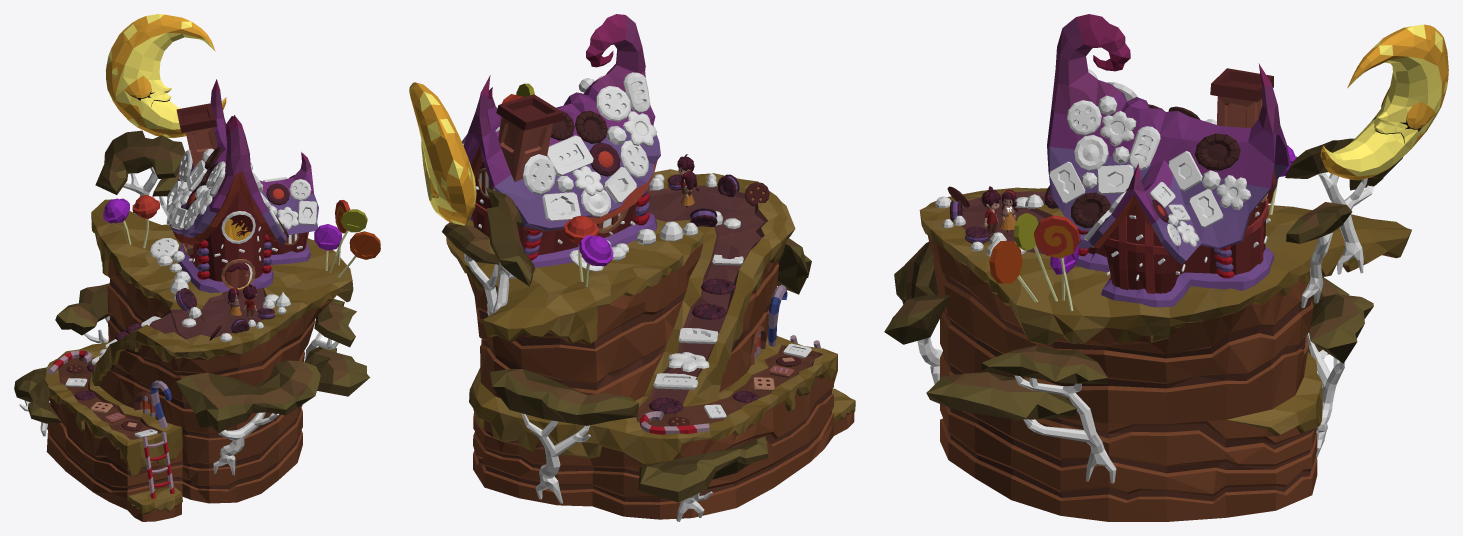
The model's file is 0032_henjelAndGretel.fbx.
3 views of the same model, side by side, from view 1: azimuth 30°, elevation 25°; view 2: azimuth 150°, elevation 25°; view 3: azimuth 270°, elevation 25° (orthographic). The views are drawn at different scales.
Visible parts, largest first — view 1: Land_01, Land_02, Tree_canopy (×5), Moon, Roof, House_body, Chimney, Tree_body (×2), lollipop_02 (×2), lollipop_01 (×2), CandyCane_04, Cookies_100 (+7 smaller); view 2: Land_01, Land_02, Tree_canopy (×5), Roof, Moon, Chimney, Tree_body (×3), House_body, Cookies_06 (×2), Cookies_08 (×2), Cookies_flower (×2), Cookies_01 (+12 smaller); view 3: Land_01, Land_02, Roof, Tree_canopy (×5), Moon, House_body, Tree_body (×4), Chimney, Cookies_02 (×2), lollipop_04, lollipop_02, Cookies_021 (+9 smaller).
Boxes of the visible parts, x1,y1,x2,y2 form: Land_01: [91, 199, 353, 433]; Land_02: [45, 341, 302, 521]; Tree_canopy (×5): [14, 130, 369, 432]; Moon: [106, 14, 226, 137]; Roof: [169, 79, 318, 245]; House_body: [178, 190, 311, 292]; Chimney: [176, 103, 217, 167]; Tree_body (×2): [123, 167, 279, 475]; lollipop_02 (×2): [132, 195, 380, 277]; lollipop_01 (×2): [103, 198, 341, 270]; CandyCane_04: [142, 432, 174, 498]; Cookies_100: [289, 179, 317, 225]; Land_01: [446, 169, 795, 406]; Land_02: [469, 335, 855, 519]; Tree_canopy (×5): [442, 187, 811, 502]; Roof: [462, 14, 660, 231]; Moon: [409, 82, 476, 225]; Chimney: [496, 94, 563, 181]; Tree_body (×3): [464, 253, 590, 503]; House_body: [469, 161, 656, 267]; Cookies_06 (×2): [547, 135, 697, 389]; Cookies_08 (×2): [542, 192, 718, 343]; Cookies_flower (×2): [572, 166, 709, 372]; Cookies_01: [522, 154, 555, 195]; Land_01: [919, 187, 1411, 423]; Land_02: [940, 351, 1322, 521]; Roof: [1047, 14, 1290, 264]; Tree_canopy (×5): [884, 138, 1402, 420]; Moon: [1320, 24, 1448, 180]; House_body: [1075, 198, 1274, 307]; Tree_body (×4): [1014, 172, 1374, 483]; Chimney: [1210, 68, 1273, 128]; Cookies_02 (×2): [1066, 100, 1240, 170]; lollipop_04: [1034, 215, 1080, 311]; lollipop_02: [989, 241, 1037, 302]; Cookies_021: [1071, 192, 1110, 228].
Bounding box in the file's own units: 28.53 × 34.29 × 36.32.
